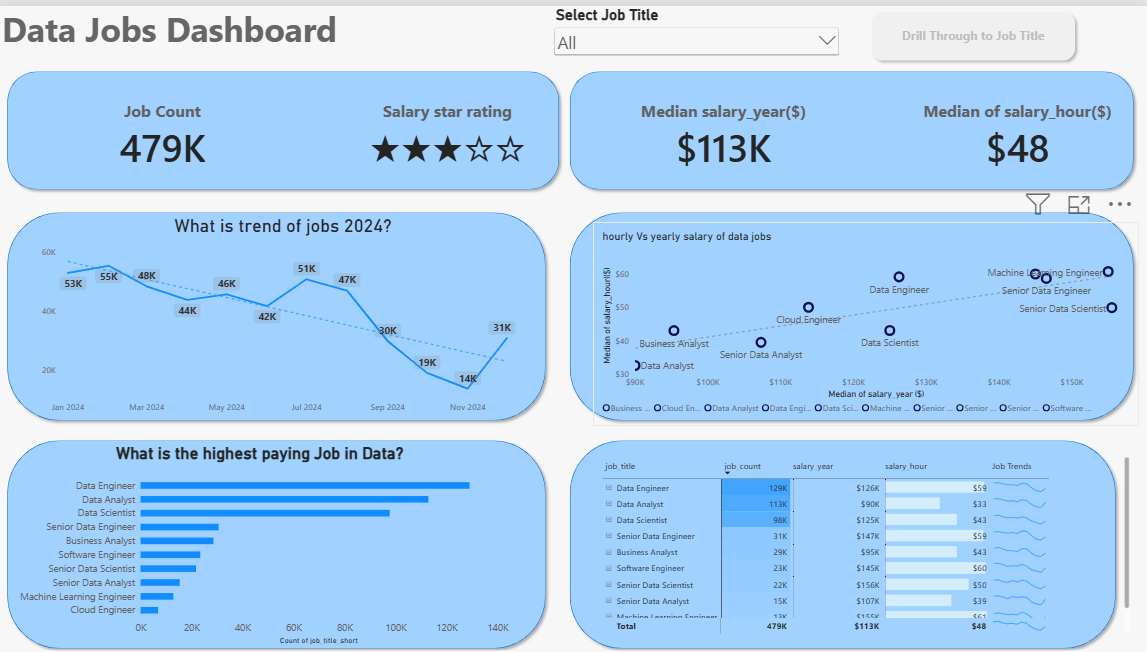

The page's visual inventory and layout, read from the dashboard file:
{"tool":"powerbi","page":{"name":"Data Jobs Dashboard","canvas":[1920,1080],"ordinal":0},"visuals":[{"type":"group","id":"g1","title":"Background","box":[10,100,1895,980],"z":0},{"type":"shape","box":[10,100,937.5,215],"z":0,"group":"g1"},{"type":"textbox","box":[10,0,887.5,100],"z":1000},{"type":"shape","box":[947.5,100,957.5,215],"z":1000,"group":"g1"},{"type":"slicer","fields":{"Values":["job_postings_flat.job_title_short"]},"box":[926.1,0,485,130],"z":2000},{"type":"shape","box":[947.5,335,957.5,365],"z":2000,"group":"g1"},{"type":"cardVisual","fields":{"Data":["Median(job_postings_flat.salary_year_avg)"]},"box":[995,100,435,235],"z":3000},{"type":"shape","box":[10,335,915,365],"z":3000,"group":"g1"},{"type":"cardVisual","fields":{"Data":["Median(job_postings_flat.salary_hour_avg)"]},"box":[1485,100,435,235],"z":4000},{"type":"shape","box":[10,715,915,365],"z":4000,"group":"g1"},{"type":"cardVisual","fields":{"Data":["job_postings_flat.Salary star rating"]},"box":[535,100,435,235],"z":5000},{"type":"shape","box":[947.5,715,927.5,365],"z":5000,"group":"g1"},{"type":"cardVisual","fields":{"Data":["CountNonNull(job_postings_flat.job_title_short)"]},"box":[60,100,435,235],"z":6000},{"type":"lineChart","title":"What is trend of jobs 2024?","fields":{"Category":["job_postings_flat.job_posted_date.Variation.Date Hierarchy.Year","job_postings_flat.job_posted_date.Variation.Date Hierarchy.Quarter","job_postings_flat.job_posted_date.Variation.Date Hierarchy.Month","job_postings_flat.job_posted_date.Variation.Date Hierarchy.Day"],"Y":["CountNonNull(job_postings_flat.job_title_short)"]},"box":[60,335,837.5,365],"z":7000},{"type":"barChart","title":"What is the highest paying Job in Data?","fields":{"Category":["job_postings_flat.job_title_short"],"Y":["CountNonNull(job_postings_flat.job_title_short)"]},"box":[10,715,860,365],"z":8000},{"type":"scatterChart","title":"hourly Vs yearly salary of data jobs","fields":{"Series":["job_postings_flat.job_title_short"],"X":["Median(job_postings_flat.salary_year_avg)"],"Y":["Median(job_postings_flat.salary_hour_avg)"]},"box":[996,360,910,340],"z":9000},{"type":"pivotTable","fields":{"Rows":["job_postings_flat.job_title_short","job_postings_flat.job_posted_date.Variation.Date Hierarchy.Quarter"],"Values":["CountNonNull(job_postings_flat.job_title)","Median(job_postings_flat.salary_year_avg)","Median(job_postings_flat.salary_hour_avg)","SparklineData(CountNonNull(job_postings_flat.job_title_short)_[job_postings_flat.job_posted_date.Variation.Date Hierarch"]},"box":[995,737.5,910,325],"z":10000},{"type":"actionButton","box":[1450,0,357.5,100],"z":12000}]}

Visuals, with their boxes in screenshot pixels (x1, y1, x2, y2), scaled from the page's 1920x1080 canvas onto the 1147x652 screenshot:
"Background" group: pyautogui.locateOnScreen(6, 60, 1138, 651)
shape: pyautogui.locateOnScreen(6, 60, 566, 190)
textbox: pyautogui.locateOnScreen(6, 0, 536, 60)
shape: pyautogui.locateOnScreen(566, 60, 1138, 190)
slicer - job_postings_flat.job_title_short: pyautogui.locateOnScreen(553, 0, 843, 78)
shape: pyautogui.locateOnScreen(566, 202, 1138, 423)
cardVisual - Median(job_postings_flat.salary_year_avg): pyautogui.locateOnScreen(594, 60, 854, 202)
shape: pyautogui.locateOnScreen(6, 202, 553, 423)
cardVisual - Median(job_postings_flat.salary_hour_avg): pyautogui.locateOnScreen(887, 60, 1146, 202)
shape: pyautogui.locateOnScreen(6, 432, 553, 651)
cardVisual - job_postings_flat.Salary star rating: pyautogui.locateOnScreen(320, 60, 579, 202)
shape: pyautogui.locateOnScreen(566, 432, 1120, 651)
cardVisual - CountNonNull(job_postings_flat.job_title_short): pyautogui.locateOnScreen(36, 60, 296, 202)
"What is trend of jobs 2024?" lineChart: pyautogui.locateOnScreen(36, 202, 536, 423)
"What is the highest paying Job in Data?" barChart: pyautogui.locateOnScreen(6, 432, 520, 651)
"hourly Vs yearly salary of data jobs" scatterChart: pyautogui.locateOnScreen(595, 217, 1139, 423)
pivotTable - job_postings_flat.job_title_short x job_postings_flat.job_posted_date.Variation.Date Hierarchy.Quarter: pyautogui.locateOnScreen(594, 445, 1138, 641)
actionButton: pyautogui.locateOnScreen(866, 0, 1080, 60)
